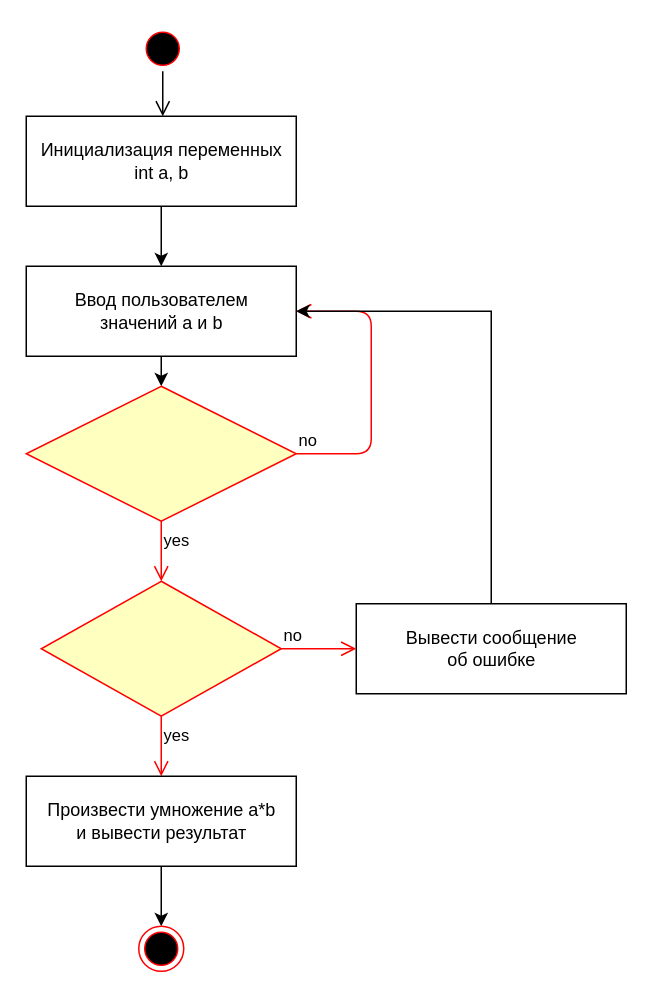
Some shapes in this 653 by 998 pixel diagram are drawn without their labels. The centre of each missing label's shape, as x and y in pixels:
Введены корректные значения?: point 160,648
Пользователь ввел значения?: point 160,453
